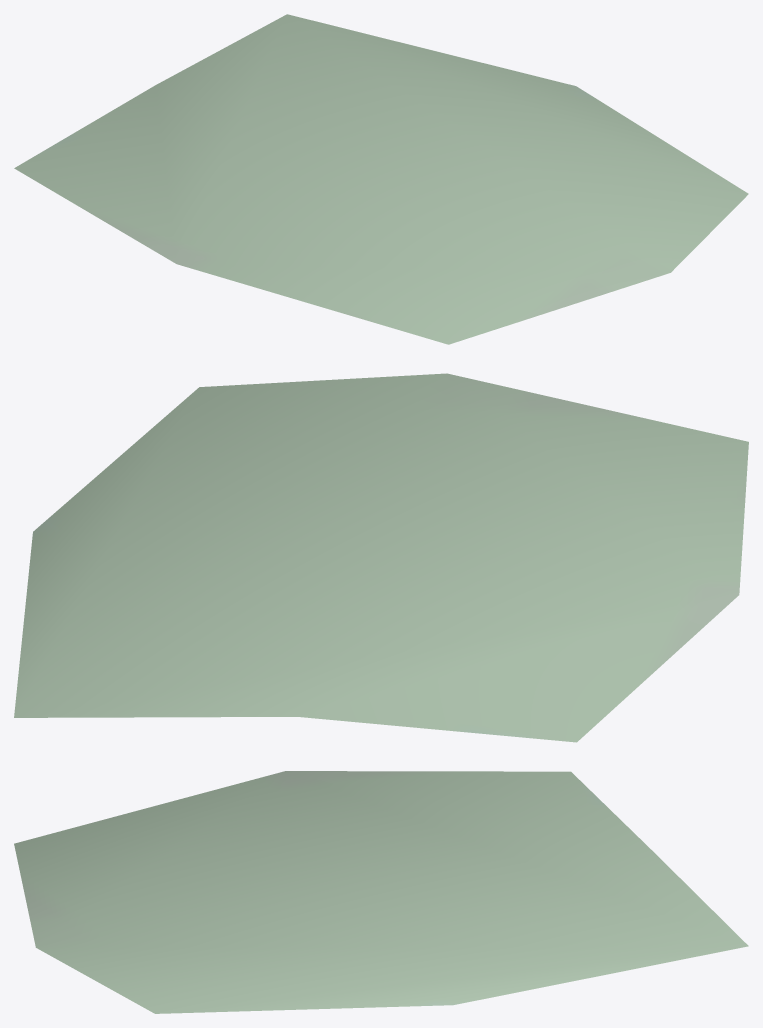
File: TROLLHOLE02_HOLECAP09.fbx
3 renders of one model, top to bottom at view 1: azimuth 30°, elevation 25°; view 2: azimuth 150°, elevation 25°; view 3: azimuth 270°, elevation 25°, orthographic. The views are drawn at different scales.
Parts seen in each view (by area): view 1: TROLLHOLE02_HOLECAP09; view 2: TROLLHOLE02_HOLECAP09; view 3: TROLLHOLE02_HOLECAP09.
Boxes of the visible parts, bbox=[...] form: TROLLHOLE02_HOLECAP09: bbox=[14, 14, 748, 344]; TROLLHOLE02_HOLECAP09: bbox=[14, 373, 748, 742]; TROLLHOLE02_HOLECAP09: bbox=[14, 771, 748, 1013].
Size of the model in its own units: 23165 by 444 by 29194.
Materials: 1 (1 with a texture image).
